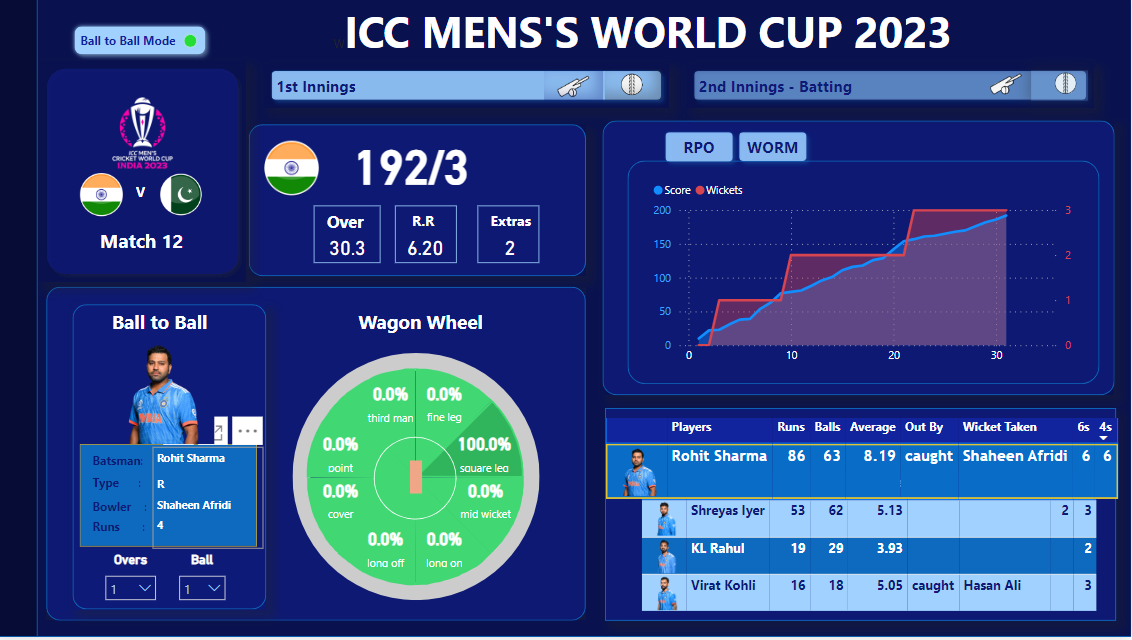

This screenshot's page, from the dashboard's own definition file:
{"tool":"powerbi","page":{"name":"pakvsind","canvas":[1280,720],"ordinal":2},"visuals":[{"type":"shape","box":[0,0,1280.8,720],"z":1000},{"type":"shape","box":[48.6,50.1,233.4,269.5],"z":1000,"group":"g3"},{"type":"shape","box":[57.9,325.6,607.8,376.3],"z":1500},{"type":"image","box":[41.7,72.9,249,163.8],"z":2000,"group":"g3"},{"type":"shape","box":[685,138.7,577.1,309.6],"z":2000},{"type":"image","box":[84.9,191.1,67.4,60.1],"z":3000,"group":"g3"},{"type":"shape","box":[86.8,345.2,218.3,343.7],"z":3000},{"type":"shape","box":[712.2,183.3,531.7,251.9],"z":4000},{"type":"image","box":[180,191.1,58.8,60.1],"z":4000,"group":"g3"},{"type":"textbox","box":[152.4,201.5,53.6,76.7],"z":5000,"group":"g3"},{"type":"shape","box":[96.2,503.1,199,114.9],"z":5000},{"type":"shape","box":[285.8,142.3,379.9,171.3],"z":6000},{"type":"textbox","box":[359.3,234,75,65],"z":7000},{"type":"group","id":"g1","title":"Group 2","box":[686.3,462,588.7,241.4],"z":9000},{"type":"slicer","fields":{"Values":["1st_inn_bat.Batsman_Runs"]},"box":[570.1,348,70.7,55.2],"z":10000},{"type":"group","id":"g2","title":"Group 1","box":[333.9,400.4,280,280],"z":11000},{"type":"card","fields":{"Values":["1st_inn_gen_stats.concat_score"]},"box":[389.4,126.1,191.9,113.5],"z":12000},{"type":"card","fields":{"Values":["1st_inn_gen_stats.bowler_ball_over"]},"box":[365,261,65.1,41],"z":13000},{"type":"image","box":[302.7,148.3,86.8,73.6],"z":14000},{"type":"textbox","box":[451.3,234,69.3,65],"z":15000},{"type":"card","fields":{"Values":["1st_inn_gen_stats.player_runrate"]},"box":[453.7,261,62.6,41],"z":16000},{"type":"shape","box":[686.3,462,577.5,239.4],"z":16000,"group":"g1"},{"type":"textbox","box":[544,234,69.6,65],"z":17000},{"type":"tableEx","fields":{"Values":["Min(indvspak_players.img_path)","1st_inn_bat.Batsman_Name","1st_inn_gen_stats.player_score_1","1st_inn_gen_stats.player_balls_1","1st_inn_gen_stats.player_runrate_1","1st_inn_gen_stats.howwicket_1","1st_inn_gen_stats.who_wicket_1","1st_inn_gen_stats.no_of_six_bat_1","1st_inn_gen_stats.no_of_4_bat_1"]},"box":[709.4,545,541.8,158.4],"z":17000,"group":"g1"},{"type":"card","fields":{"Values":["1st_inn_gen_stats.total_extra"]},"box":[546,261,68.2,41],"z":18000},{"type":"group","id":"g3","title":"Group 3","box":[41.7,50.1,249,323.2],"z":19000},{"type":"textbox","box":[95,253,134.9,120.3],"z":19001,"group":"g3"},{"type":"shape","box":[335.5,400.7,278.5,278.5],"z":19500,"group":"g2"},{"type":"shape","box":[0,0,48.1,720.1],"z":20000},{"type":"shapeMap","fields":{"Value":["1st_inn_gen_stats.field_percentage_1"],"Category":["1st_inn_bat.field"]},"box":[333.9,400.4,279.5,279.5],"z":20000,"group":"g2"},{"type":"tableEx","fields":{"Values":["Min(indvspak_players.img_path)","1st_inn_bat.Batsman_Name","1st_inn_gen_stats.player_score_1","1st_inn_gen_stats.player_balls_1","1st_inn_gen_stats.player_runrate_1","1st_inn_gen_stats.howwicket_1","1st_inn_gen_stats.who_wicket_1","1st_inn_gen_stats.no_of_six_bat_1","1st_inn_gen_stats.no_of_4_bat_1"]},"box":[686.3,484.7,588.7,88.2],"z":20000,"group":"g1"},{"type":"card","fields":{"Values":["1st_inn_gen_stats.long-on-card"]},"box":[467.5,591.2,77.5,56.1],"z":21000,"group":"g2"},{"type":"slicer","title":"Overs","fields":{"Values":["1st_inn_gen_stats.Over_No"]},"box":[114.3,624,77.2,59.1],"z":21000},{"type":"card","fields":{"Values":["1st_inn_gen_stats.mid-wicket-card"]},"box":[513.5,535.1,77.5,56.1],"z":22000,"group":"g2"},{"type":"slicer","title":"Ball","fields":{"Values":["1st_inn_gen_stats.Ball"]},"box":[197.7,624.3,72.1,58],"z":22000},{"type":"card","fields":{"Values":["1st_inn_gen_stats.square-card"]},"box":[512.4,483.5,77.5,56.1],"z":23000,"group":"g2"},{"type":"multiRowCard","fields":{"Values":["Min(1st_inn_bat.Batsman_Name)","1st_inn_gen_stats.Batsman_Style","1st_inn_gen_stats.Bowler_Name","1st_inn_gen_stats.player_score_1"]},"box":[180.9,506.8,125.4,114.6],"z":23000},{"type":"textbox","box":[109.7,511.4,73.6,44.6],"z":24000},{"type":"card","fields":{"Values":["1st_inn_gen_stats.long-off-card"]},"box":[401.3,591.2,77.5,56.1],"z":24000,"group":"g2"},{"type":"card","fields":{"Values":["1st_inn_gen_stats.cover-card"]},"box":[350.7,535.1,77.5,56.1],"z":25000,"group":"g2"},{"type":"textbox","box":[109.7,536.7,73.6,44.6],"z":25000},{"type":"card","fields":{"Values":["1st_inn_gen_stats.point-card"]},"box":[350.7,483.5,77.5,56.1],"z":26000,"group":"g2"},{"type":"textbox","box":[109.7,563.2,73.6,44.6],"z":26000},{"type":"card","fields":{"Values":["1st_inn_gen_stats.third-man-card"]},"box":[406.9,427.3,77.5,56.1],"z":27000,"group":"g2"},{"type":"textbox","box":[109.7,586.1,73.6,44.6],"z":27000},{"type":"actionButton","box":[747.2,142,93.7,51],"z":28000},{"type":"shape","box":[426.2,495.2,93.3,93.3],"z":28000,"group":"g2"},{"type":"actionButton","box":[829.7,142.7,93.7,50.4],"z":29000},{"type":"card","fields":{"Values":["1st_inn_gen_stats.fine-leg-card"]},"box":[467.5,422.9,77.5,64],"z":29000,"group":"g2"},{"type":"tableEx","fields":{"Values":["Min(indvspak_players.img_path)"]},"box":[118.2,360.6,141.1,156.8],"z":30000},{"type":"shape","box":[467.3,522,14,37.2],"z":30000,"group":"g2"},{"type":"textbox","box":[375.4,0,742.4,77],"z":31000},{"type":"actionButton","box":[302.6,72.8,456.6,50.4],"z":32000},{"type":"actionButton","box":[778.8,72.8,459.4,50.4],"z":33000},{"type":"textbox","box":[126.6,344.9,130.3,38.6],"z":34000},{"type":"textbox","box":[404,344.9,185.7,48.2],"z":35000},{"type":"image","box":[617.7,60,67.2,76],"z":36000},{"type":"image","box":[696.2,70,46,54],"z":37000},{"type":"actionButton","box":[618.7,82,67.2,35],"z":38000},{"type":"actionButton","box":[687.3,80.8,64,34],"z":39000},{"type":"stackedAreaChart","fields":{"Category":["1st_inn_gen_stats.Over_No"]},"box":[730.6,210.1,517.7,223.9],"z":40000},{"type":"areaChart","fields":{"Category":["1st_inn_gen_stats.Ball_Number"],"Y":["Max(1st_inn_gen_stats.Score)"],"Y2":["1st_inn_gen_stats.wickets1"]},"box":[736.9,196.6,481.2,224.3],"z":41000},{"type":"image","box":[1106.3,58.4,67.2,76],"z":42000},{"type":"image","box":[1184.7,68.4,46,54],"z":43000},{"type":"actionButton","box":[1098.6,82.3,67.2,35],"z":44000},{"type":"actionButton","box":[1167.2,81.2,64,34],"z":45000}]}

Visuals, with their boxes in screenshot pixels (x1, y1, x2, y2), scaled from the page's 1280x720 canvas onto the 1132x640 screenshot:
shape: [0,0,1131,639]
shape: [43,45,249,284]
shape: [51,289,589,624]
image: [37,65,257,210]
shape: [606,123,1116,398]
image: [75,170,135,223]
shape: [77,307,270,612]
shape: [630,163,1100,387]
image: [159,170,211,223]
textbox: [135,179,182,247]
shape: [85,447,261,549]
shape: [253,126,589,279]
textbox: [318,208,384,266]
"Group 2" group: [607,411,1128,625]
slicer - 1st_inn_bat.Batsman_Runs: [504,309,567,358]
"Group 1" group: [295,356,543,605]
card - 1st_inn_gen_stats.concat_score: [344,112,514,213]
card - 1st_inn_gen_stats.bowler_ball_over: [323,232,380,268]
image: [268,132,344,197]
textbox: [399,208,460,266]
card - 1st_inn_gen_stats.player_runrate: [401,232,457,268]
shape: [607,411,1118,623]
textbox: [481,208,543,266]
tableEx - Min(indvspak_players.img_path) x 1st_inn_bat.Batsman_Name: [627,484,1107,625]
card - 1st_inn_gen_stats.total_extra: [483,232,543,268]
"Group 3" group: [37,45,257,332]
textbox: [84,225,203,332]
shape: [297,356,543,604]
shape: [0,0,43,639]
shapeMap - 1st_inn_gen_stats.field_percentage_1 x 1st_inn_bat.field: [295,356,542,604]
tableEx - Min(indvspak_players.img_path) x 1st_inn_bat.Batsman_Name: [607,431,1128,509]
card - 1st_inn_gen_stats.long-on-card: [413,526,482,575]
"Overs" slicer: [101,555,169,607]
card - 1st_inn_gen_stats.mid-wicket-card: [454,476,523,526]
"Ball" slicer: [175,555,239,606]
card - 1st_inn_gen_stats.square-card: [453,430,522,480]
multiRowCard - Min(1st_inn_bat.Batsman_Name) x 1st_inn_gen_stats.Batsman_Style: [160,450,271,552]
textbox: [97,455,162,494]
card - 1st_inn_gen_stats.long-off-card: [355,526,423,575]
card - 1st_inn_gen_stats.cover-card: [310,476,379,526]
textbox: [97,477,162,517]
card - 1st_inn_gen_stats.point-card: [310,430,379,480]
textbox: [97,501,162,540]
card - 1st_inn_gen_stats.third-man-card: [360,380,428,430]
textbox: [97,521,162,561]
actionButton: [661,126,744,172]
shape: [377,440,459,523]
actionButton: [734,127,817,172]
card - 1st_inn_gen_stats.fine-leg-card: [413,376,482,433]
tableEx - Min(indvspak_players.img_path): [105,321,229,460]
shape: [413,464,426,497]
textbox: [332,0,989,68]
actionButton: [268,65,671,110]
actionButton: [689,65,1095,110]
textbox: [112,307,227,341]
textbox: [357,307,522,349]
image: [546,53,606,121]
image: [616,62,656,110]
actionButton: [547,73,607,104]
actionButton: [608,72,664,102]
stackedAreaChart - 1st_inn_gen_stats.Over_No: [646,187,1104,386]
areaChart - 1st_inn_gen_stats.Ball_Number x Max(1st_inn_gen_stats.Score): [652,175,1077,374]
image: [978,52,1038,119]
image: [1048,61,1088,109]
actionButton: [972,73,1031,104]
actionButton: [1032,72,1089,102]
